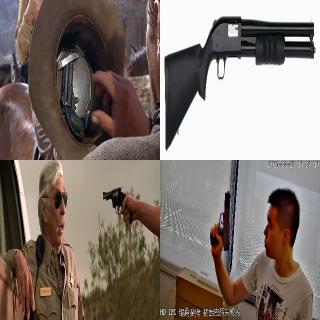gun: (163, 3, 316, 149), (59, 54, 86, 138), (209, 189, 231, 255), (102, 184, 132, 224)
